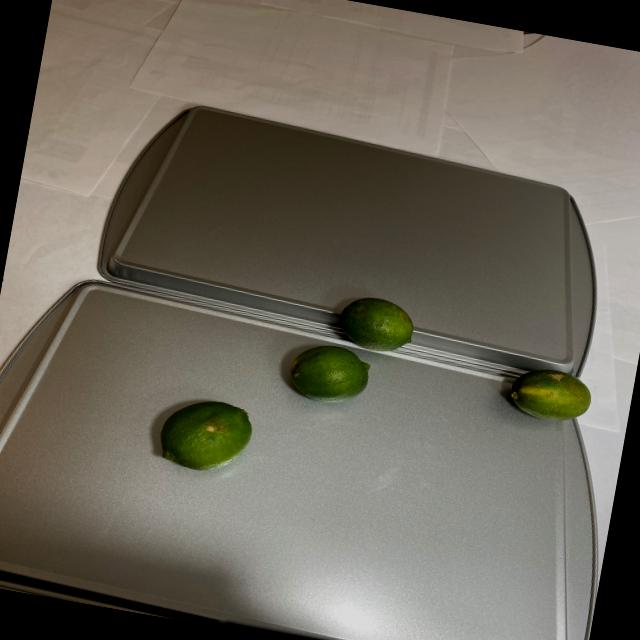lemon: (285, 284, 423, 417), (148, 390, 255, 490), (508, 362, 598, 428)
